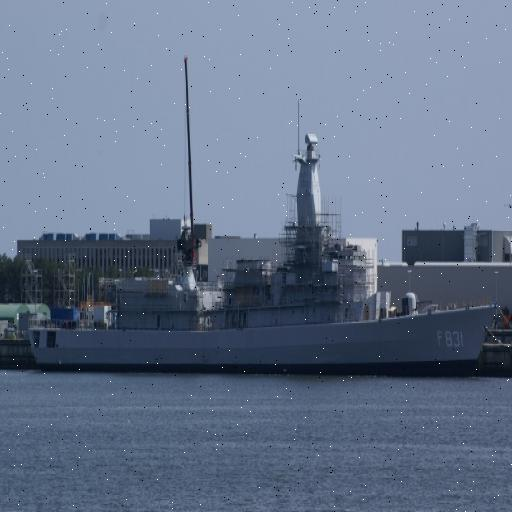Fragata: (29, 126, 505, 382)
